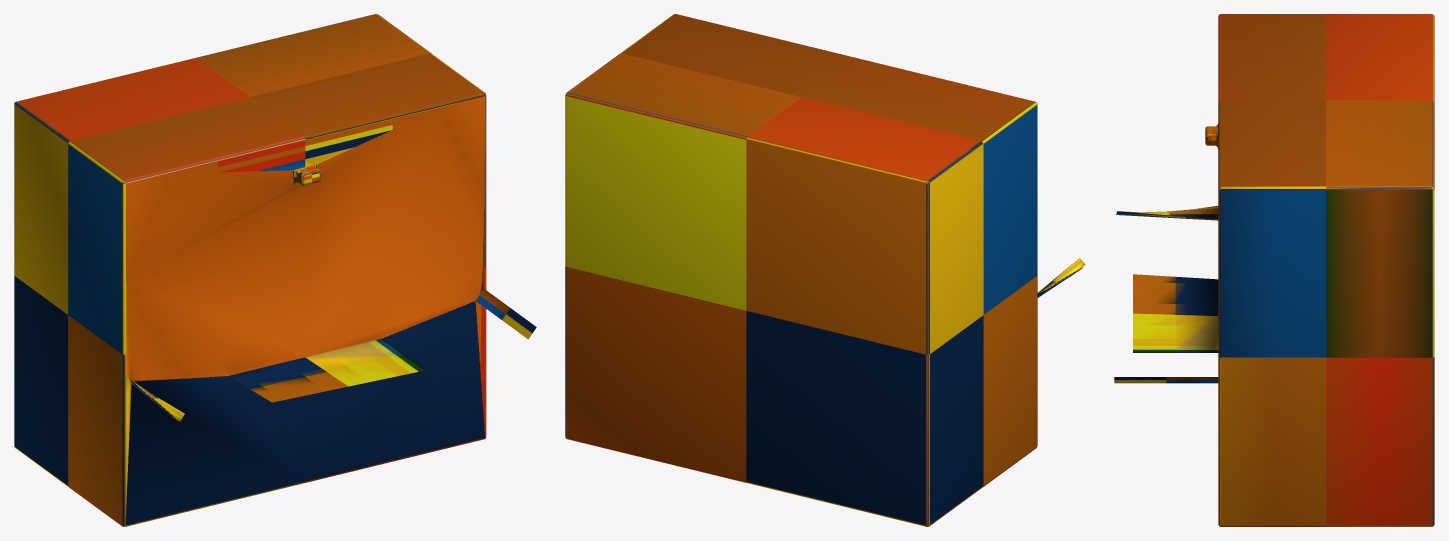
Rendered from garage-roll-door.glb.
The picture shows the model from 3 angles, left to right: view 1: azimuth 30°, elevation 25°; view 2: azimuth 150°, elevation 25°; view 3: azimuth 270°, elevation 25°; orthographic projection.
Visible parts, largest first — view 1: garage-roll-door_export; view 2: garage-roll-door_export; view 3: garage-roll-door_export.
Part boxes in pixels (x1,y1,x2,y2): garage-roll-door_export: (14,14,536,526); garage-roll-door_export: (565,14,1085,526); garage-roll-door_export: (1114,14,1434,526).
Bounding box in the file's own units: 2.19 × 1.99 × 1.7.
1 material, 1 textured.
